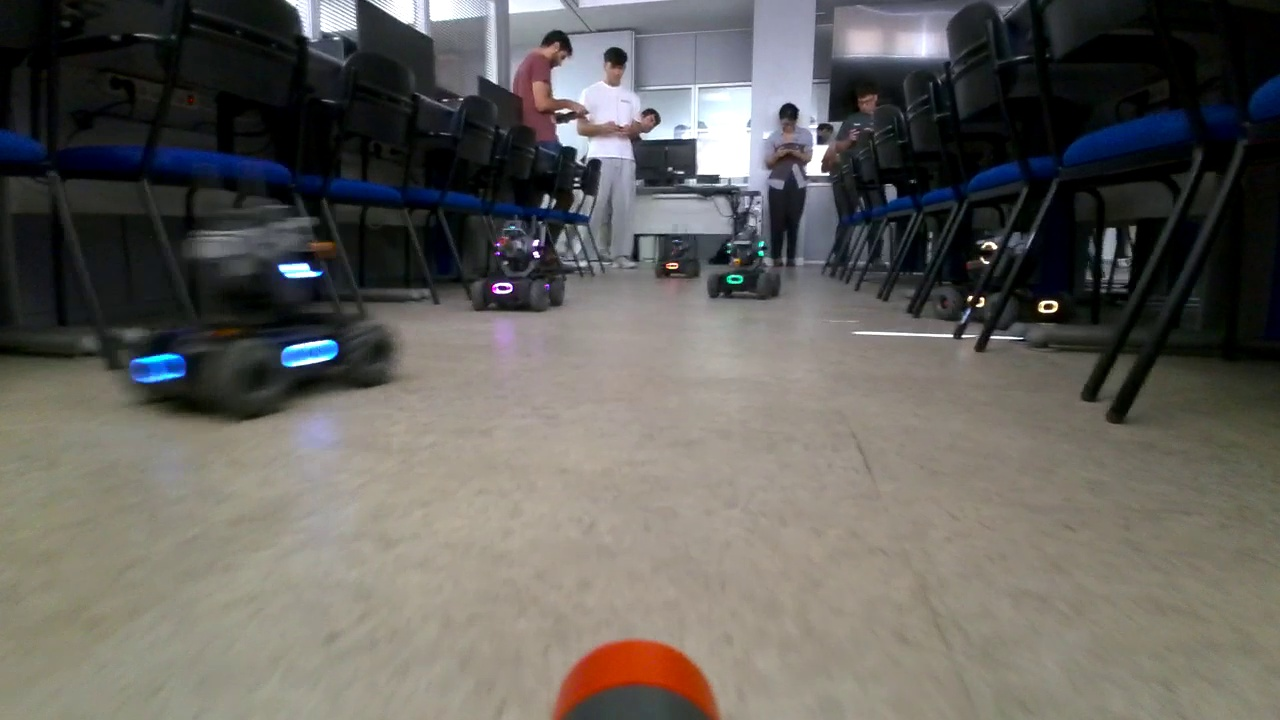robot: (133, 206, 403, 421), (932, 228, 1063, 328), (474, 215, 563, 314), (706, 223, 781, 295), (654, 235, 700, 279)
